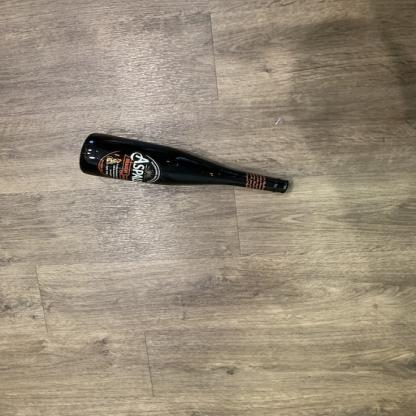trash: (75, 131, 292, 197)
